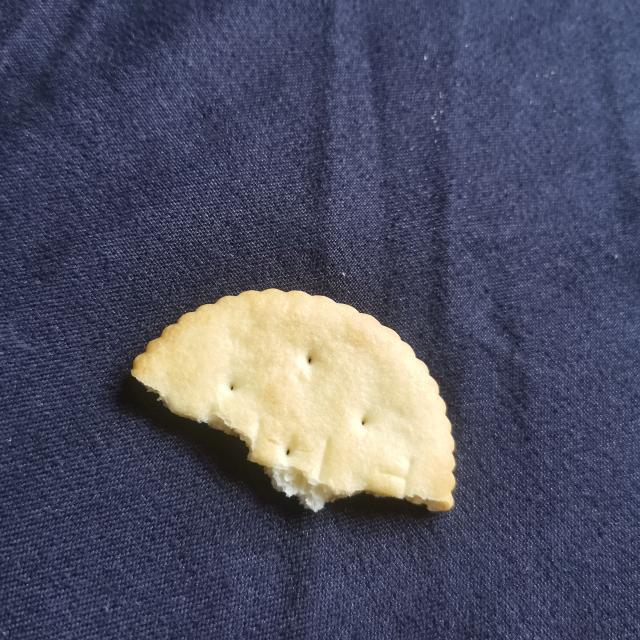Broken: (130, 286, 458, 514)
